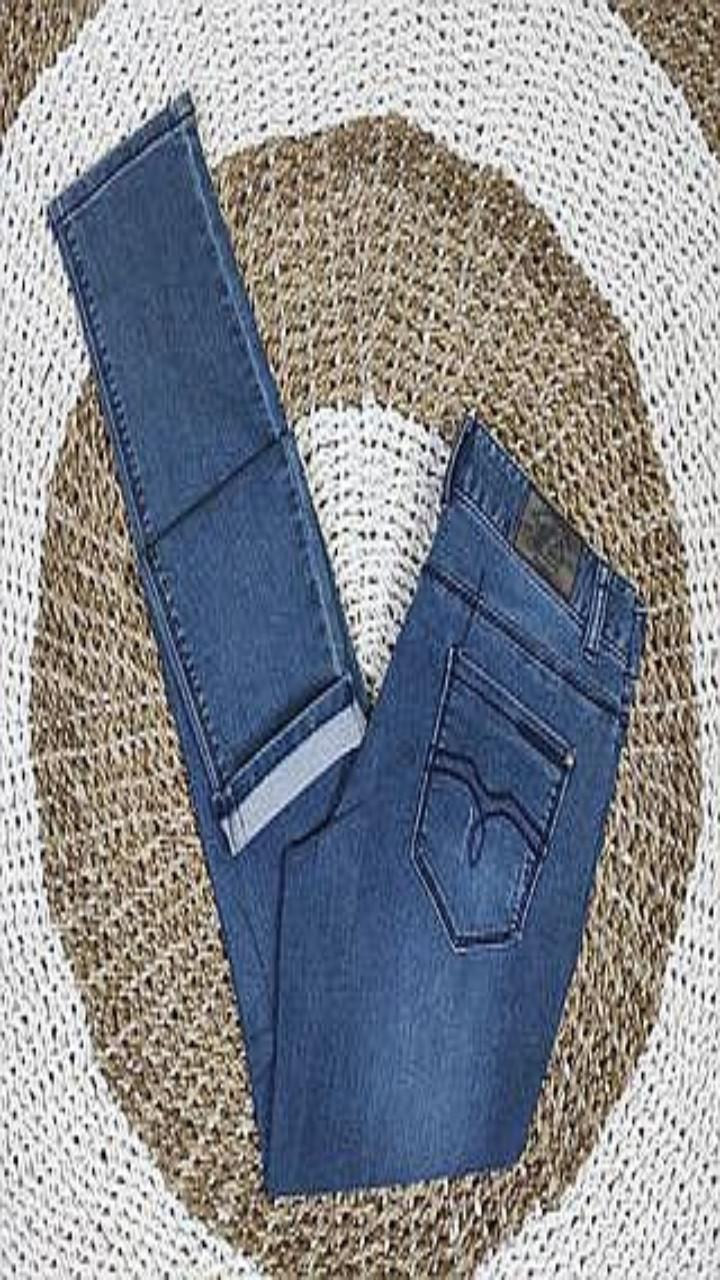Jeans: (50, 95, 644, 1191)
